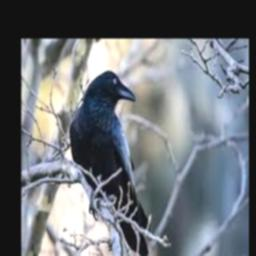Crow: (69, 70, 151, 256)
